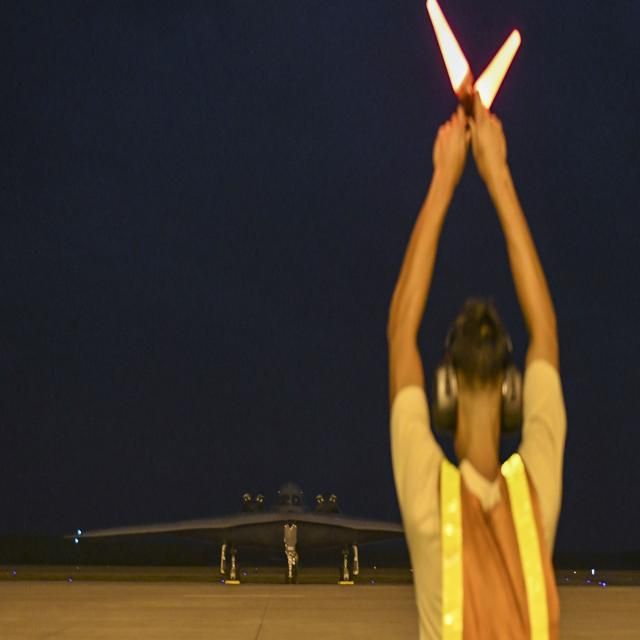MIL_Plane: (0, 468, 268, 571)
